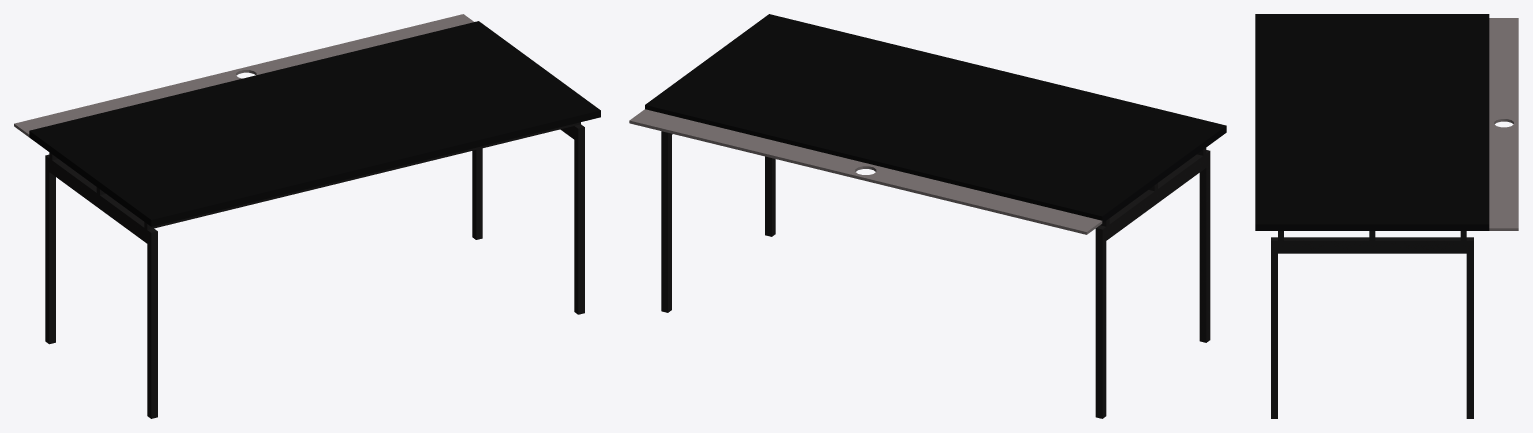
The model's file is TableSecurityRoom.FBX.
3 views of the same model, side by side, from view 1: azimuth 30°, elevation 25°; view 2: azimuth 150°, elevation 25°; view 3: azimuth 270°, elevation 25° (orthographic). The views are drawn at different scales.
Parts seen in each view (by area): view 1: TableWork; view 2: TableWork; view 3: TableWork.
Part boxes in pixels (left/top/right/bottom): TableWork: left=14, top=14, right=600, bottom=418; TableWork: left=629, top=14, right=1226, bottom=418; TableWork: left=1255, top=14, right=1518, bottom=418.
Bounding box in the file's own units: 170 × 74.75 × 90.
